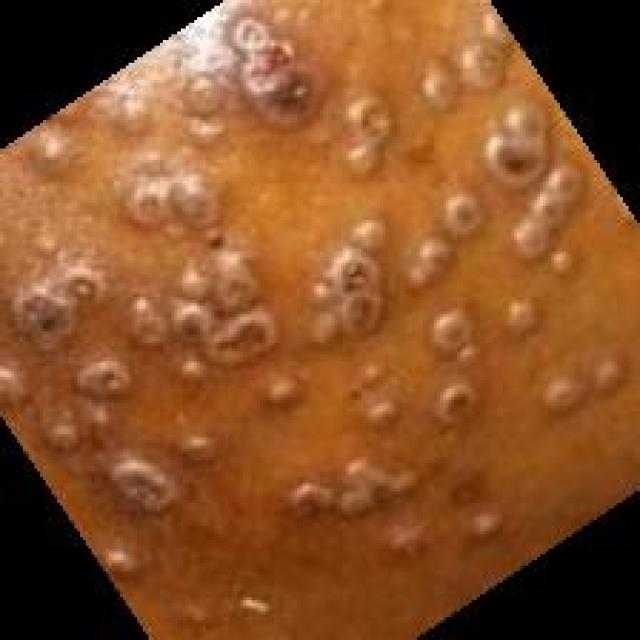monkeypox: (2, 20, 595, 586)
